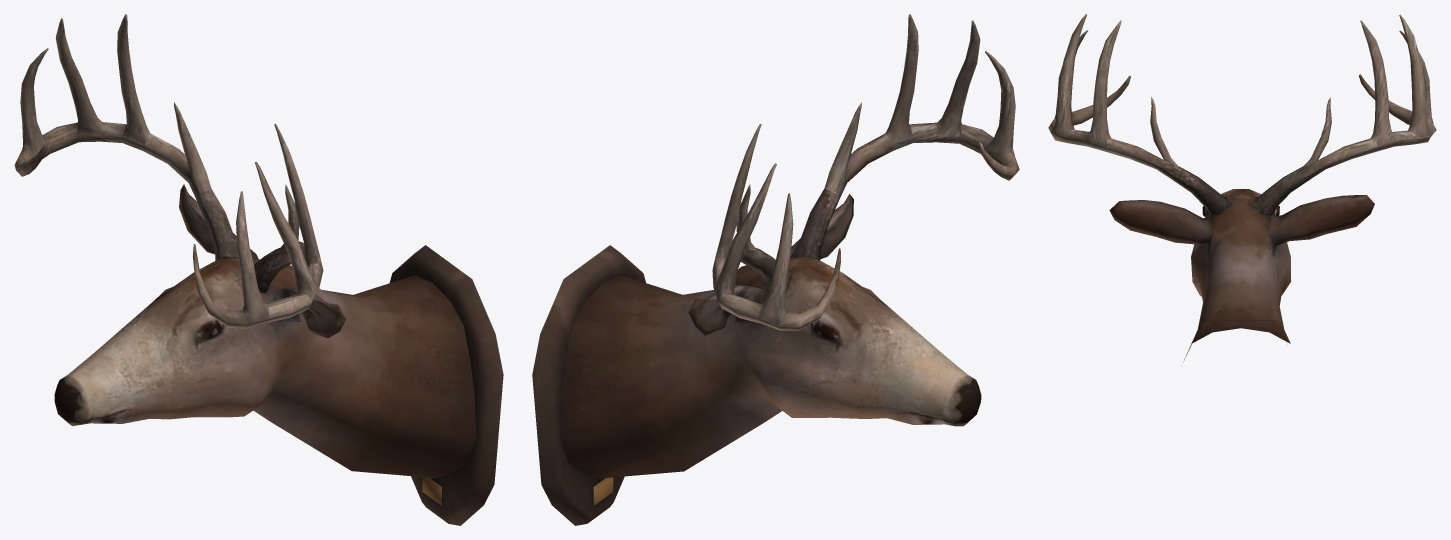
3 views of the same model, side by side, from view 1: azimuth 30°, elevation 25°; view 2: azimuth 150°, elevation 25°; view 3: azimuth 270°, elevation 25° (orthographic). The views are drawn at different scales.
Parts seen in each view (by area): view 1: body0_model0_lod0_mesh0; view 2: body0_model0_lod0_mesh0; view 3: body0_model0_lod0_mesh0.
Part boxes in pixels (bbox=[...]): body0_model0_lod0_mesh0: bbox=[14, 14, 503, 525]; body0_model0_lod0_mesh0: bbox=[532, 14, 1019, 525]; body0_model0_lod0_mesh0: bbox=[1048, 14, 1436, 361].
Size of the model in its own units: 41.59 by 51.87 by 44.72.
Materials: 1 (1 with a texture image).
